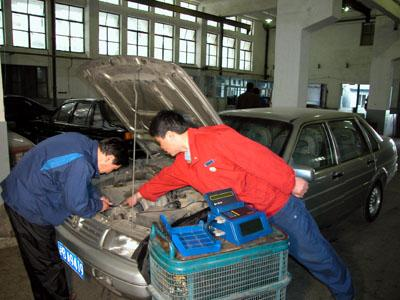person: (2, 133, 130, 299)
